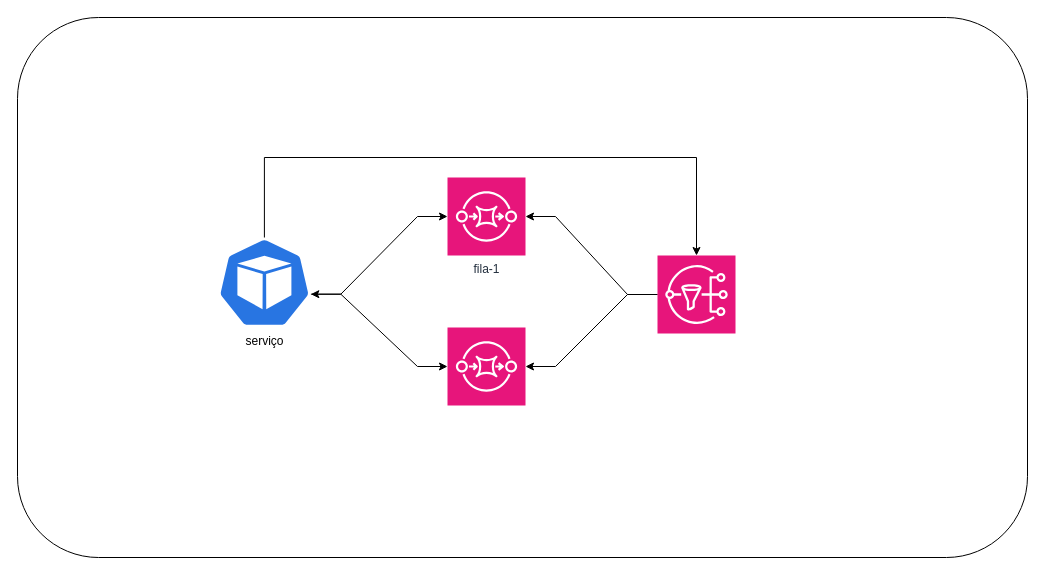
The diagram is 1045 pixels wide and 575 high, and some of its shapes have lost their labels. The centre of each missing label's shape, as x and y in pixels:
"fila-2" goes at point 486,366.
"topico-1" goes at point 696,294.
